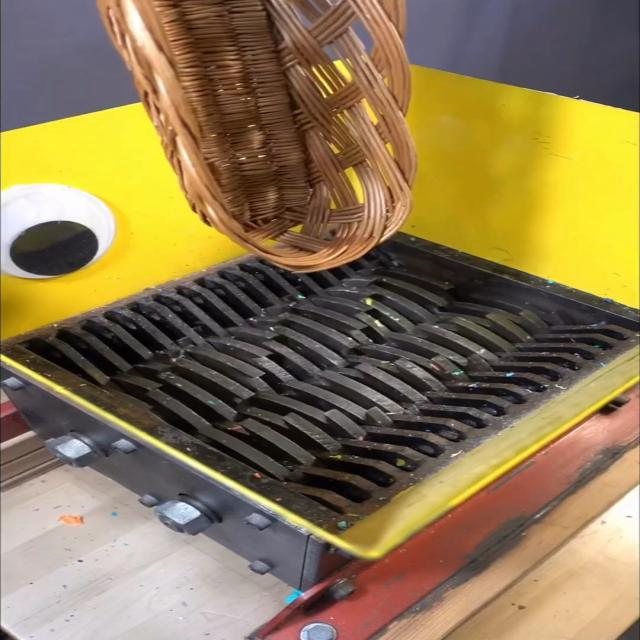Broyeur: (0, 230, 640, 550)
